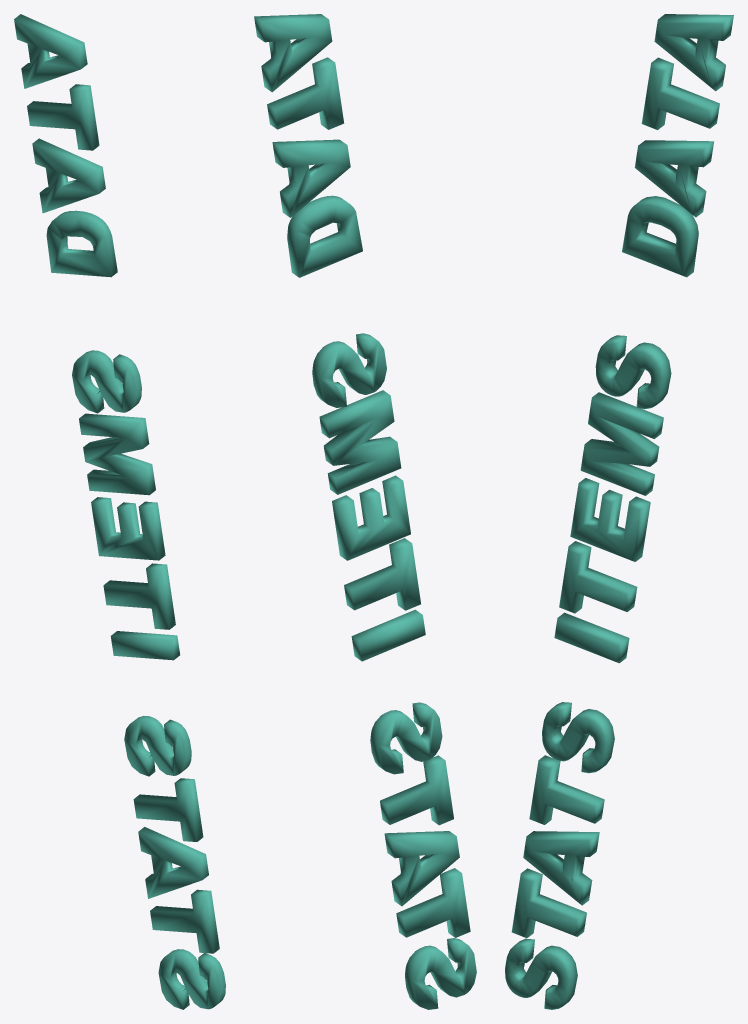
File: piptext.obj
3 renders of one model, left to right at view 1: azimuth 90°, elevation 25°; view 2: azimuth 150°, elevation 25°; view 3: azimuth 270°, elevation 25°, orthographic. The views are drawn at different scales.
Parts seen in each view (by area): view 1: piptext; view 2: piptext; view 3: piptext.
Part boxes in pixels (x1,y1,x2,y2): piptext: (14, 14, 225, 1009); piptext: (254, 14, 476, 1009); piptext: (505, 14, 733, 1009).
Bounding box in the file's own units: 0.2786 × 2.37 × 0.477.
